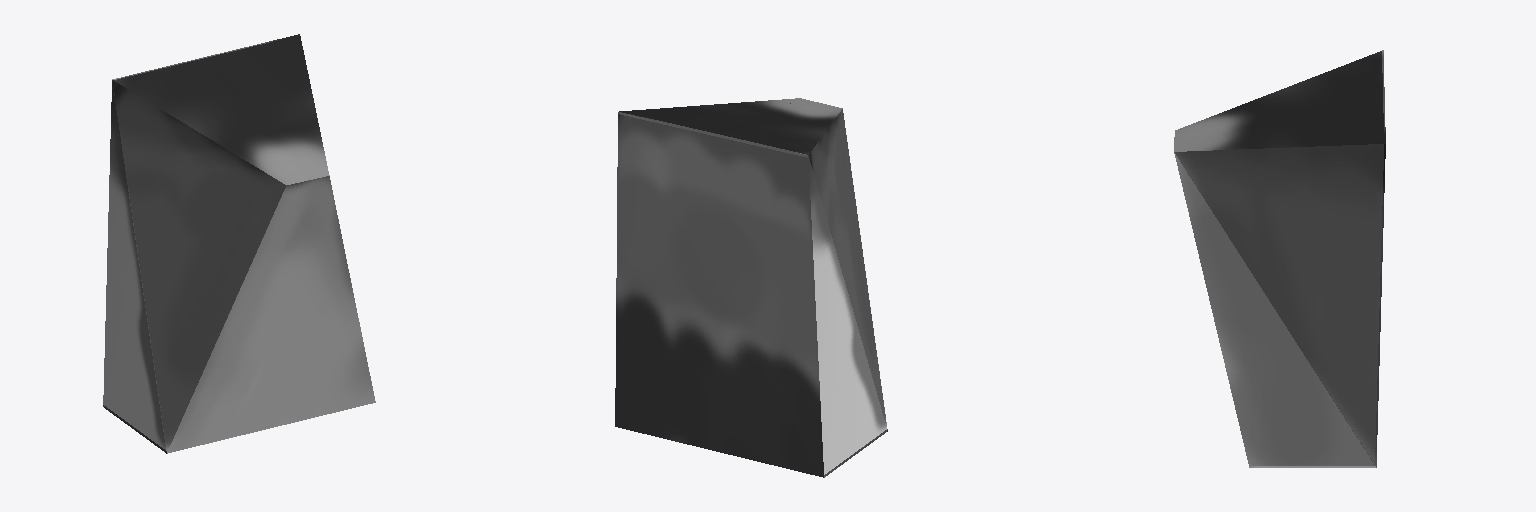
3 renders of one model, left to right at view 1: azimuth 30°, elevation 25°; view 2: azimuth 150°, elevation 25°; view 3: azimuth 270°, elevation 25°, orthographic.
Parts seen in each view (by area): view 1: Cube; view 2: Cube; view 3: Cube.
Boxes of the visible parts, <box> form: Cube: <box>103,34,375,453</box>; Cube: <box>615,98,887,477</box>; Cube: <box>1174,50,1385,467</box>.
Bounding box in the file's own units: 1.14 × 1.67 × 0.9957.
Materials: 1 (1 with a texture image).